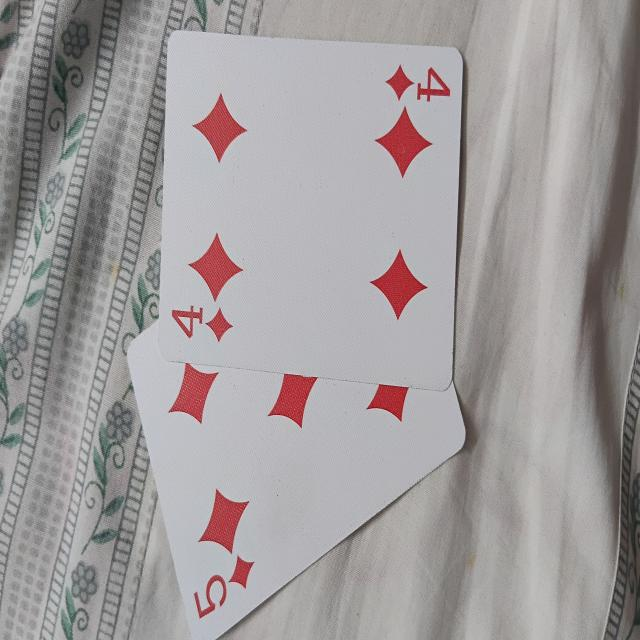4D: (159, 36, 463, 383)
5D: (125, 318, 464, 640)
